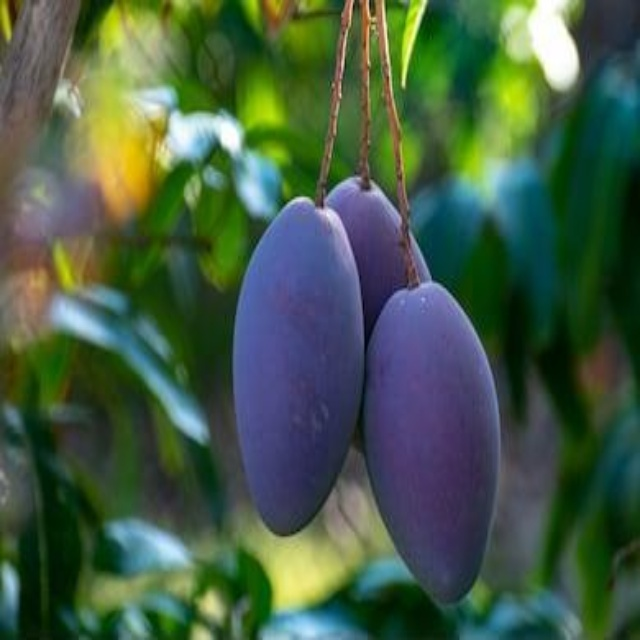mango: (230, 197, 361, 540), (369, 276, 499, 601), (328, 154, 430, 325)
